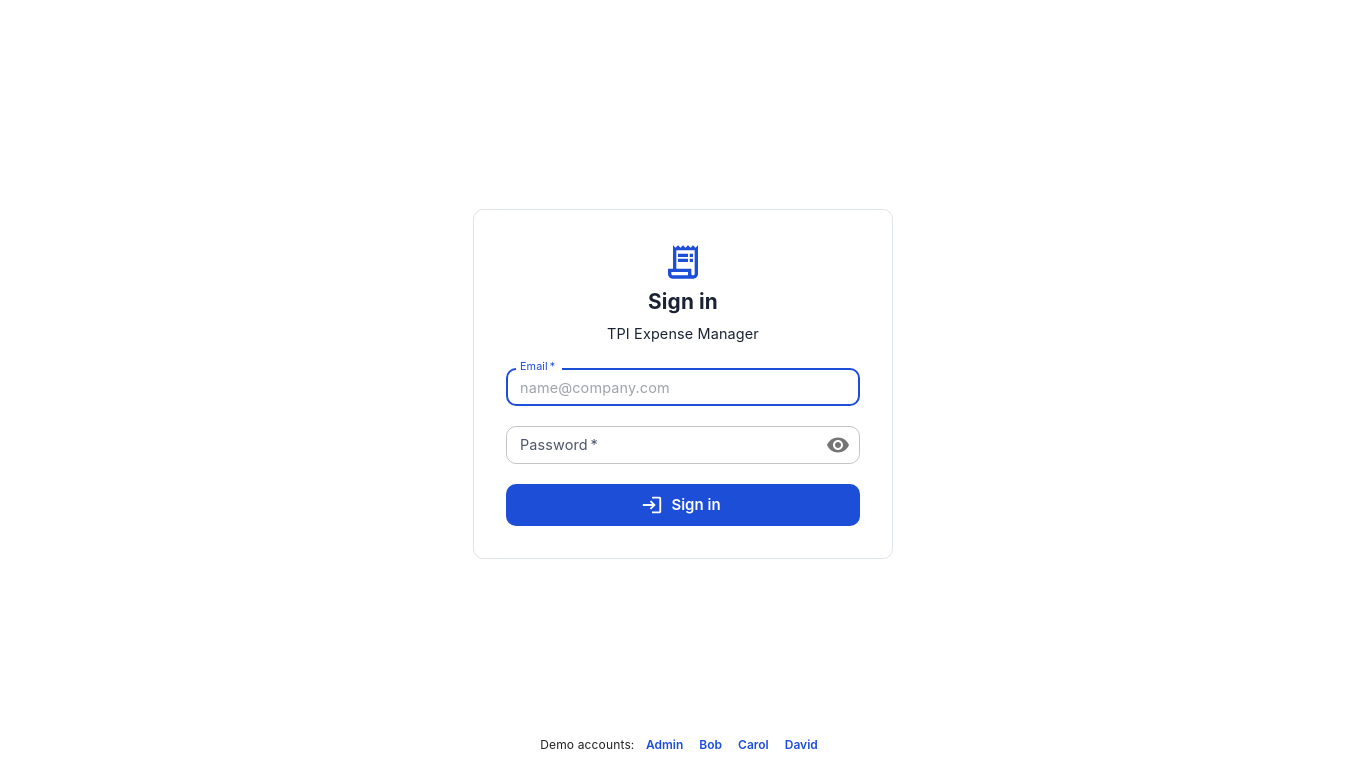
Scenario: login › logs in, stores the token and opens the dashboard
Type "alice@tpi.com" into the field labelled "Email *" at (683, 387), box top-left (506, 368), bottom-right (860, 406)
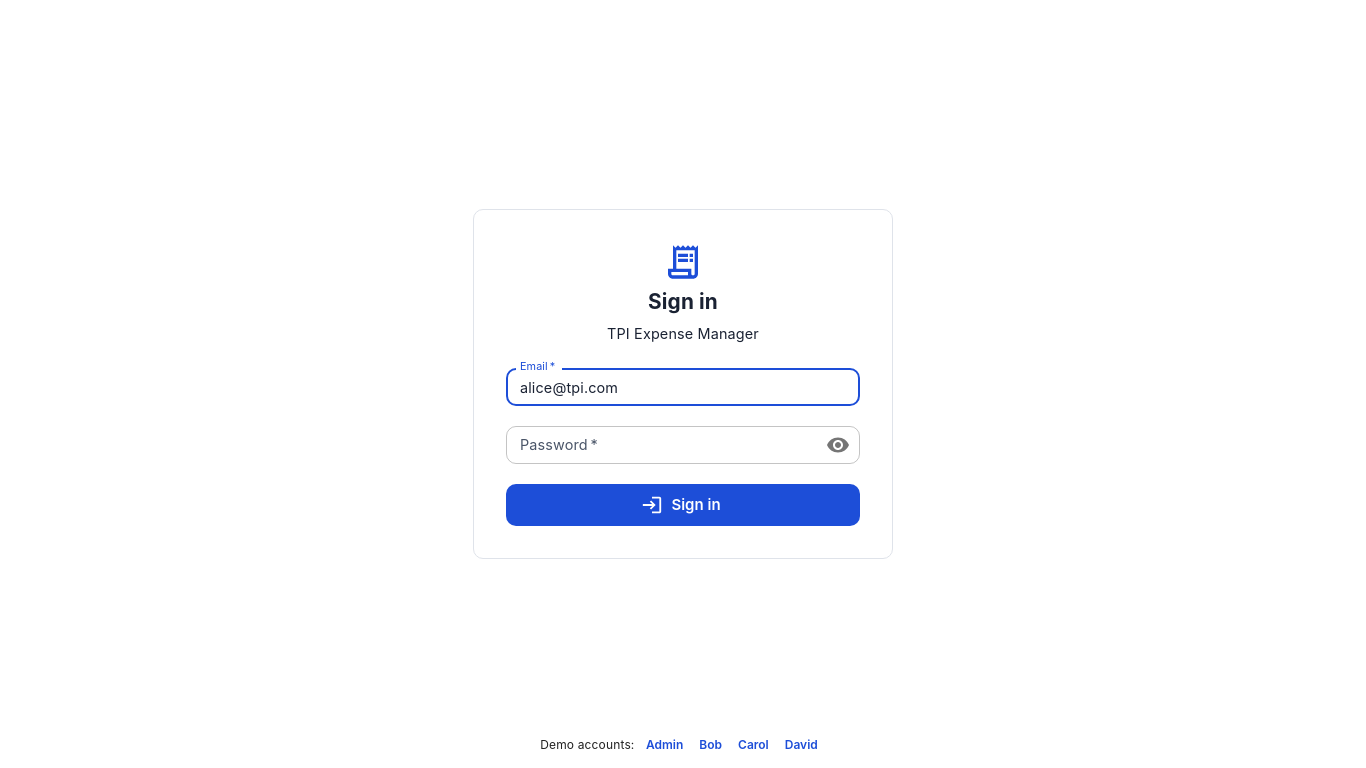
Type "Admin@123" into the password field labelled "Password *" at (658, 445), box top-left (506, 426), bottom-right (810, 464)
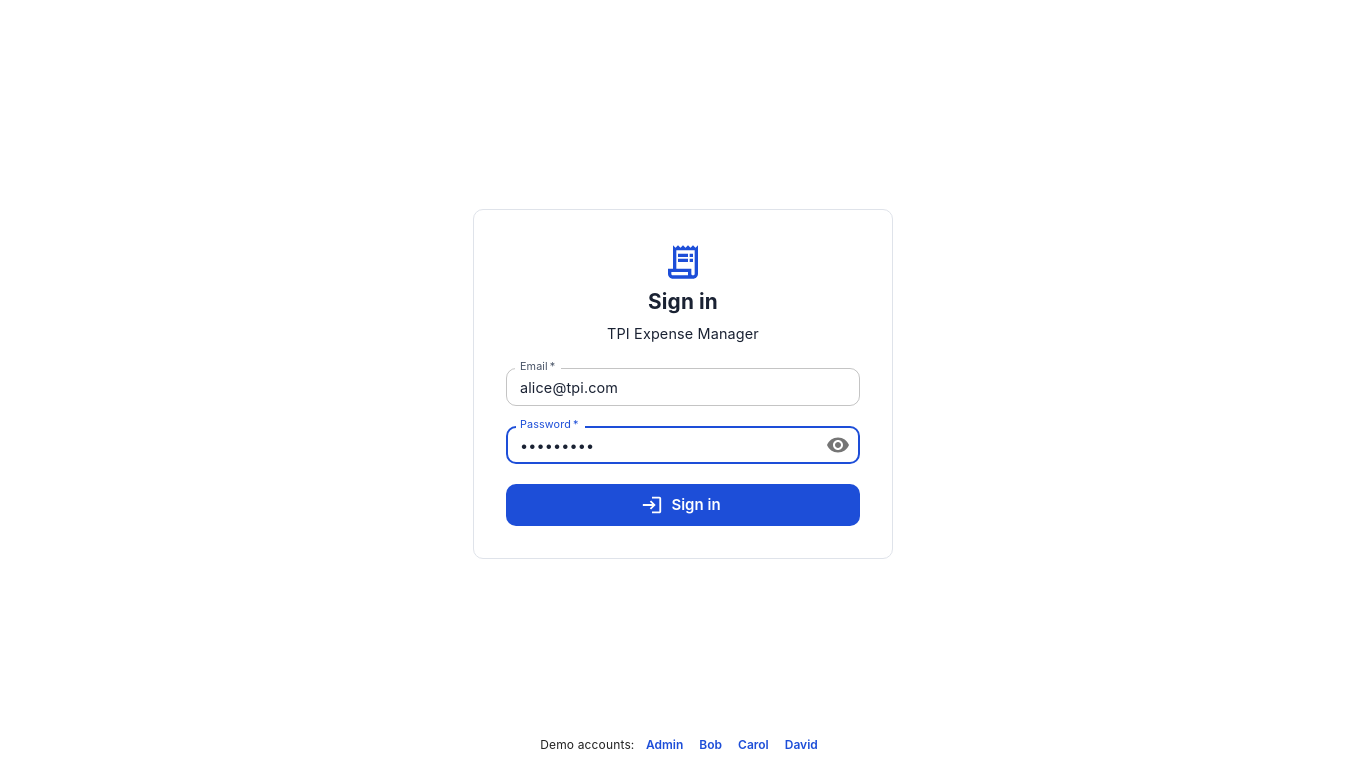
Click the button "Sign in" at (683, 505), box top-left (506, 484), bottom-right (860, 526)
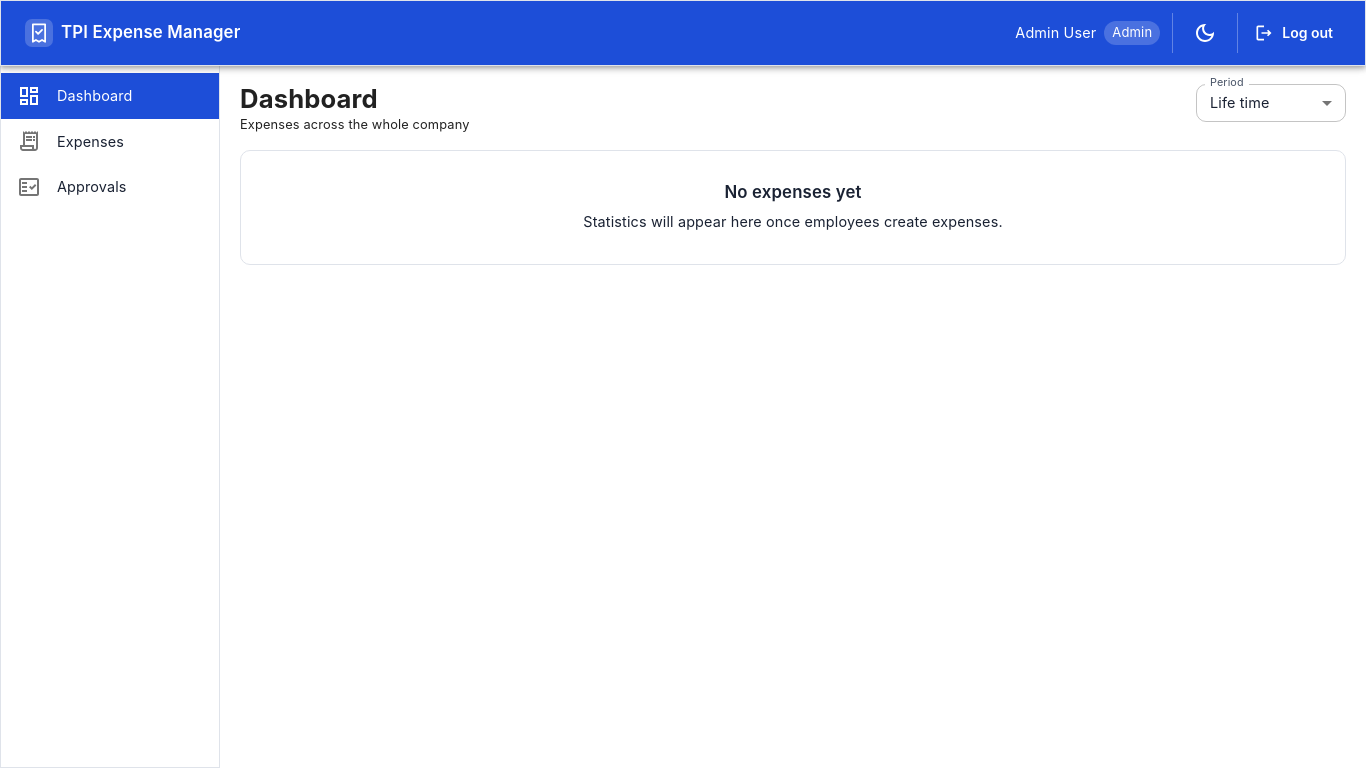
Result: the heading "Dashboard" is shown at top-left (240, 83), bottom-right (378, 114)
Result: the text "Admin User" is shown at top-left (1015, 22), bottom-right (1096, 44)
